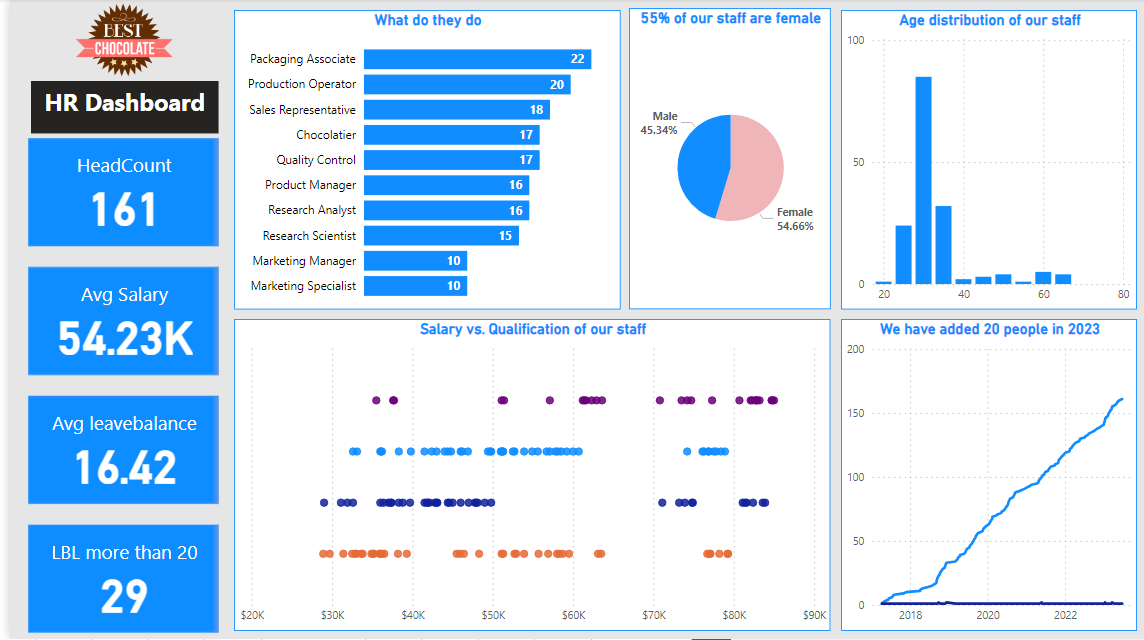

What the dashboard file says about the page in this screenshot:
{"tool":"powerbi","page":{"name":"DashBoard","canvas":[1280,720],"ordinal":9},"visuals":[{"type":"cardVisual","fields":{"Data":["Staff.HeadCount","Staff.Avg Salary","Staff.Avg leavebalance","Staff.LBL more than 20"]},"box":[14.2,150.2,226.8,569.8],"z":0},{"type":"clusteredBarChart","title":"What do they do","fields":{"Category":["Staff.Job Title"],"Y":["Staff.HeadCount"]},"box":[252,12,434.7,337.3],"z":1000},{"type":"pieChart","title":"55% of our staff are female","fields":{"Y":["Staff.HeadCount"],"Category":["Staff.Gender"]},"box":[696,10.7,226.7,338.7],"z":2000},{"type":"columnChart","title":"Age distribution of our staff","fields":{"Y":["Staff.HeadCount"],"Category":["Staff.Age (bins)"]},"box":[934.7,12,333.3,337.3],"z":3000},{"type":"scatterChart","title":"Salary vs. Qualification of our staff","fields":{"Y":["Qual.Qualification ID"],"X":["Staff.Salary"],"Series":["Qual.Qualification"]},"box":[252,360,670.7,350.7],"z":4000},{"type":"lineChart","title":"We have added 20 people in 2023","fields":{"Y":["Staff.Cumalative Headcount","Staff.HeadCount"],"Category":["Staff.Date"]},"box":[934.7,360,333.3,350.7],"z":5000},{"type":"textbox","box":[24,92,210.7,58.7],"z":6000},{"type":"image","box":[10.7,0,237.3,92],"z":7000}]}

Visuals, with their boxes in screenshot pixels (x1, y1, x2, y2), scaled from the page's 1280x720 canvas onto the 1144x640 screenshot:
cardVisual - Staff.HeadCount x Staff.Avg Salary: l=13, t=134, r=215, b=639
"What do they do" clusteredBarChart: l=225, t=11, r=614, b=310
"55% of our staff are female" pieChart: l=622, t=10, r=825, b=311
"Age distribution of our staff" columnChart: l=835, t=11, r=1133, b=310
"Salary vs. Qualification of our staff" scatterChart: l=225, t=320, r=825, b=632
"We have added 20 people in 2023" lineChart: l=835, t=320, r=1133, b=632
textbox: l=21, t=82, r=210, b=134
image: l=10, t=0, r=222, b=82
